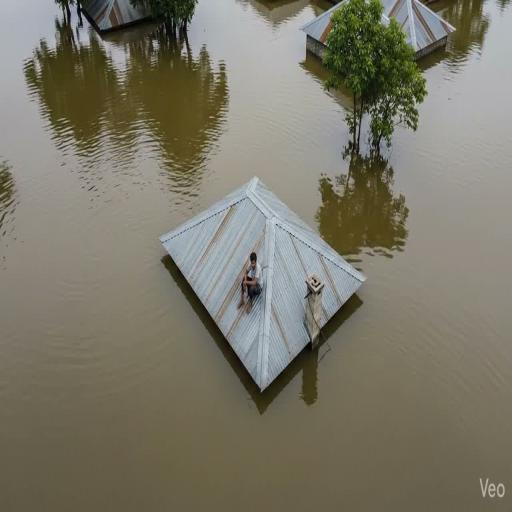human: (237, 253, 263, 312)
